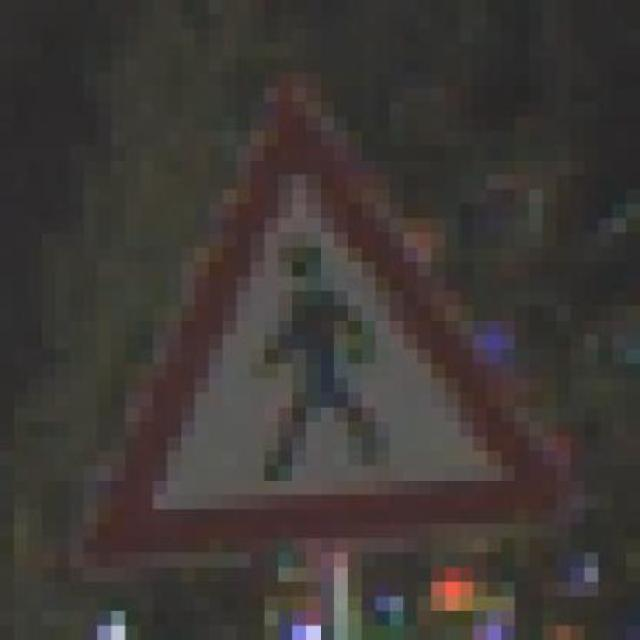Pedestrian Crossing: (56, 73, 584, 582)
